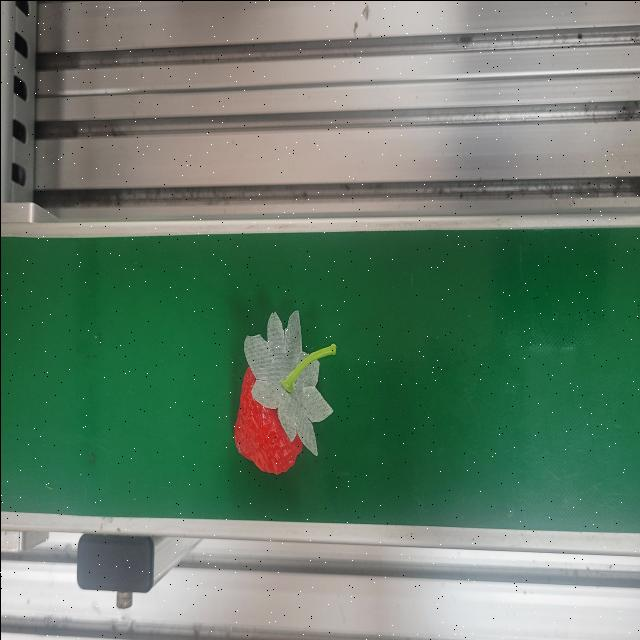Small Ripe Strawberry: (232, 322, 318, 478)
